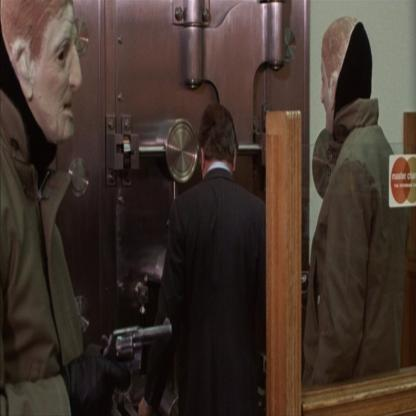gun: (112, 311, 184, 375)
